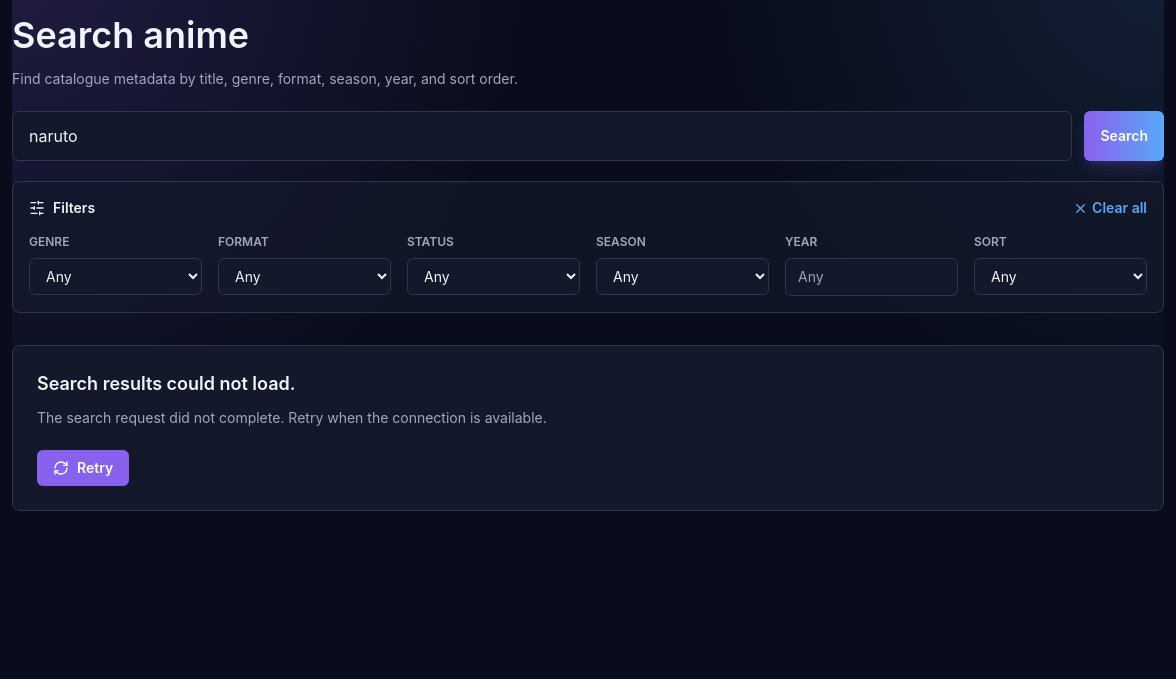
Test: SearchPage › renders an error state and retries
Expected: the heading "Search results could not load." is shown, [37,373,296,394]
Click the button "Retry" at {"x": 83, "y": 468}, box [37,450,129,486]
(page scrolled)
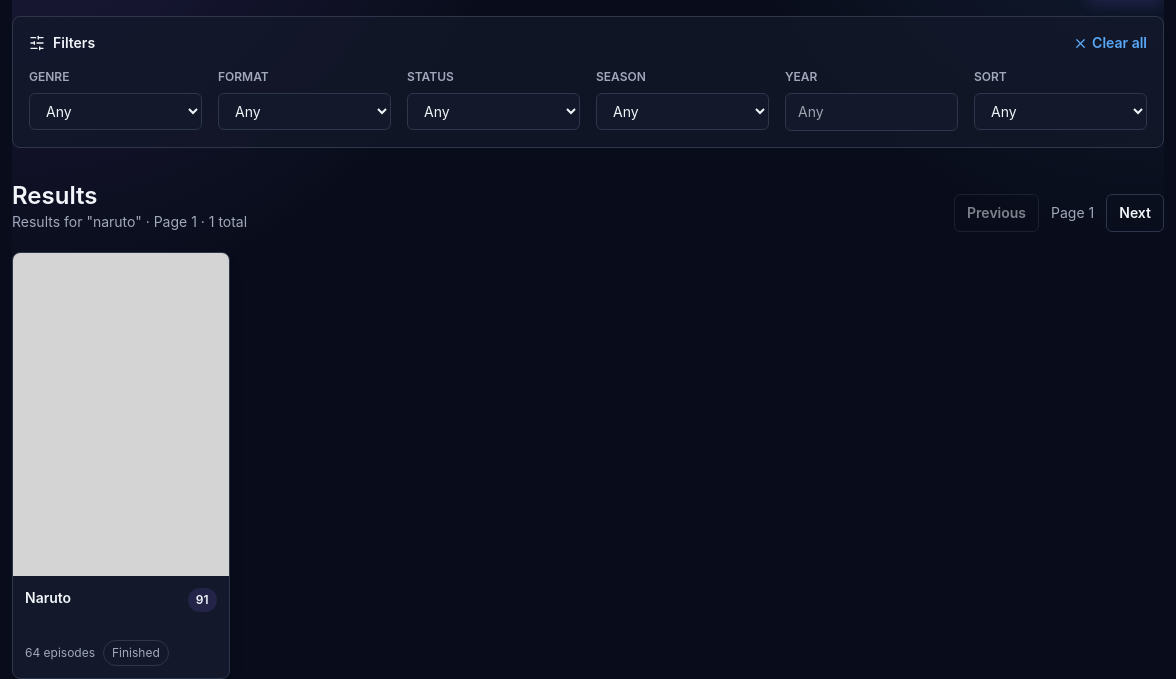
Now the heading "Naruto" is shown, box [25,589,71,606]
